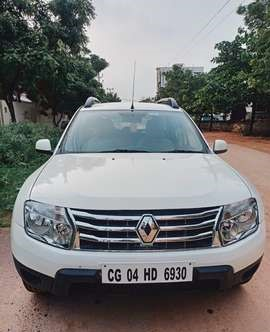CG04HD6930: (102, 262, 192, 283)
